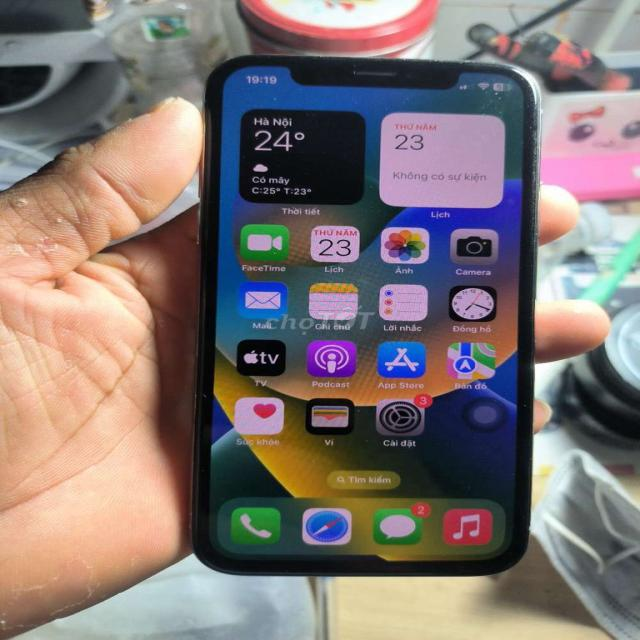gen_x_xs: (184, 31, 551, 585)
